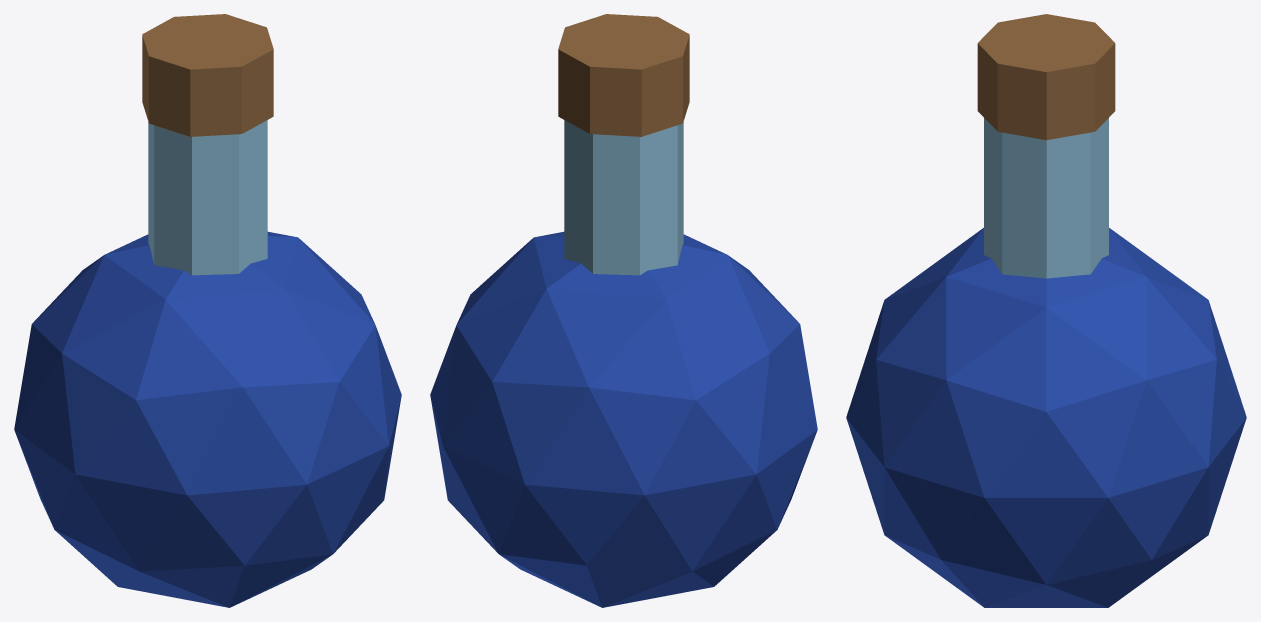
File: SM_GZ_item_mana_draught.fbx
3 views of the same model, side by side, from view 1: azimuth 30°, elevation 25°; view 2: azimuth 150°, elevation 25°; view 3: azimuth 270°, elevation 25° (orthographic).
Visible parts, largest first — view 1: SM_GZ_item_mana_draught; view 2: SM_GZ_item_mana_draught; view 3: SM_GZ_item_mana_draught.
Part boxes in pixels (x1,y1,x2,y2): SM_GZ_item_mana_draught: (14,14,401,607); SM_GZ_item_mana_draught: (430,14,817,607); SM_GZ_item_mana_draught: (846,14,1246,607).
Size of the model in its own units: 60.87 by 98 by 64.
